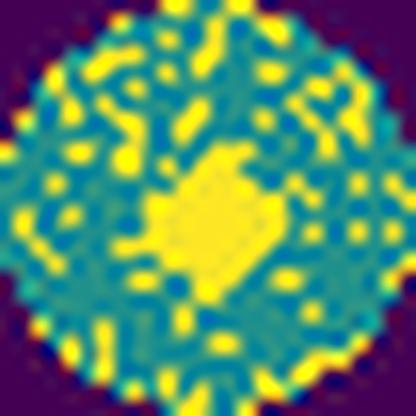Center: (110, 139, 290, 309)
